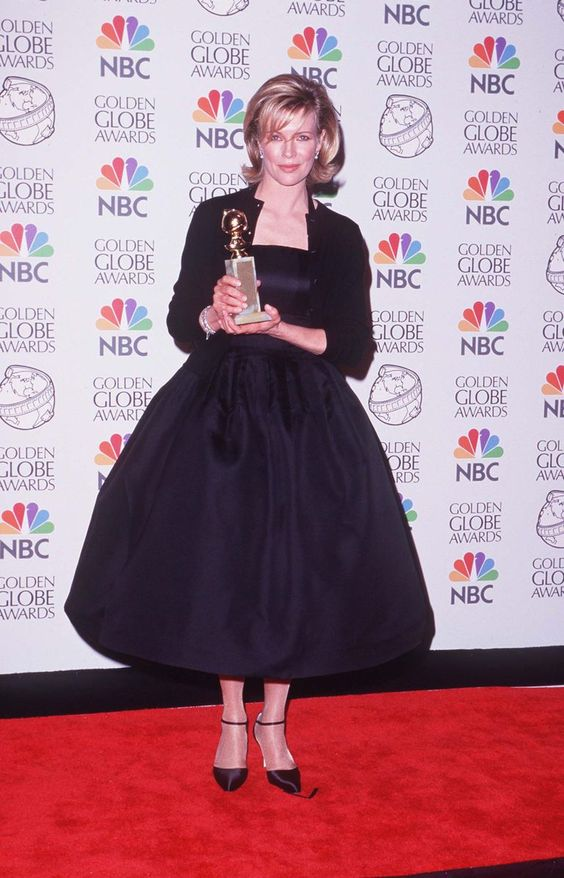hand: (210, 281, 254, 315)
